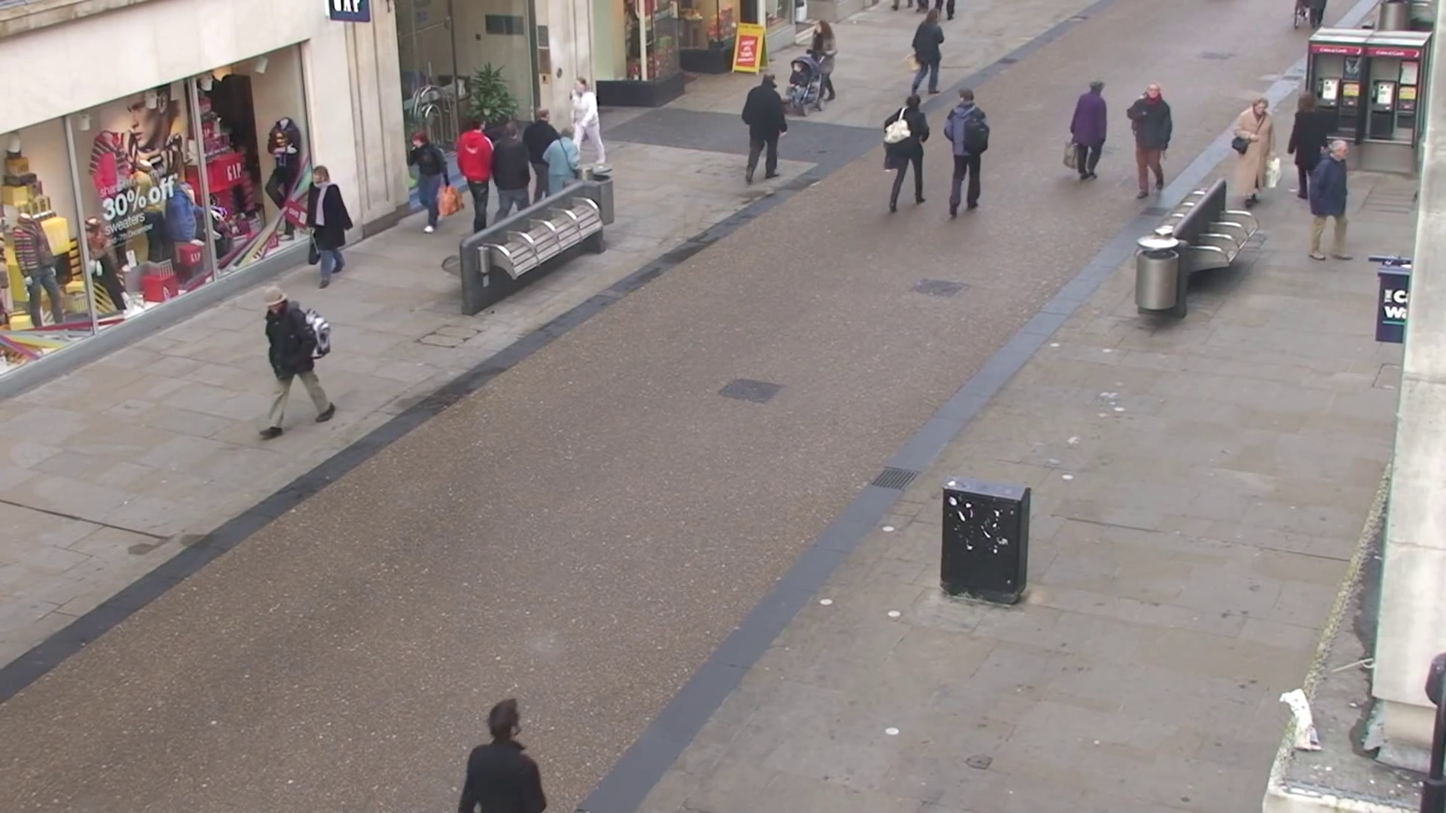person: (259, 294, 337, 439), (458, 696, 547, 813), (790, 16, 847, 140), (944, 89, 990, 219), (1305, 136, 1352, 263), (307, 167, 354, 290), (1126, 82, 1173, 202), (1222, 97, 1271, 210), (743, 71, 787, 184), (882, 101, 926, 214), (456, 117, 496, 235), (1069, 80, 1109, 182), (493, 114, 531, 217), (413, 131, 450, 233), (520, 109, 558, 208), (569, 78, 607, 172), (911, 5, 947, 99)
